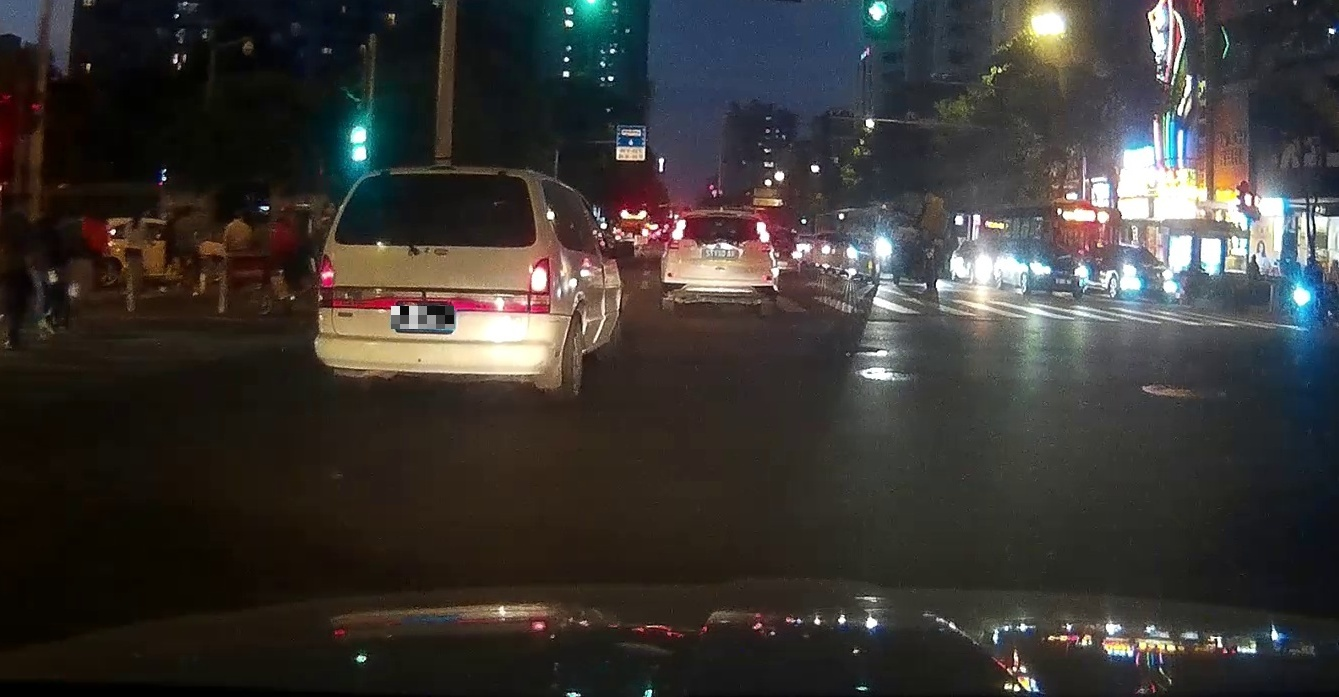L_light: (320, 254, 334, 287), (671, 219, 687, 240)
R_light: (530, 258, 549, 293), (756, 222, 770, 242)
T_light: (426, 174, 458, 181), (713, 217, 731, 222)
night-no: (661, 211, 778, 317)
night-right: (313, 165, 552, 402)
plate_1: (391, 306, 454, 329)
